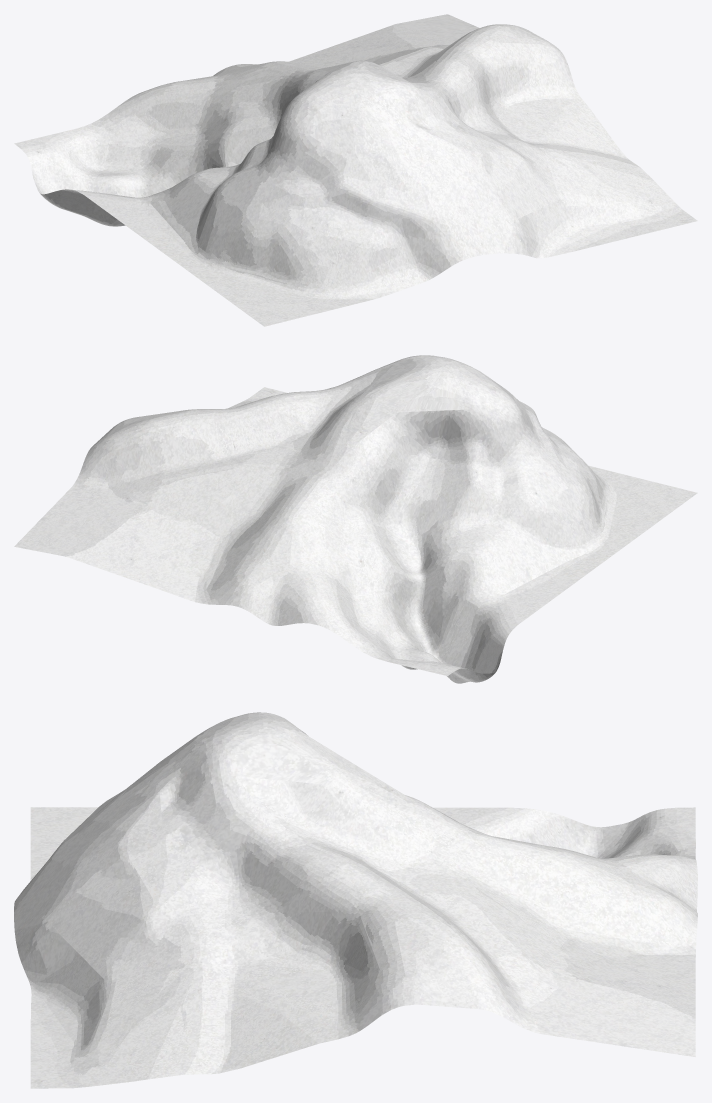
Rendered from test-mountain.fbx.
3 views of the same model, one above another, from view 1: azimuth 30°, elevation 25°; view 2: azimuth 150°, elevation 25°; view 3: azimuth 270°, elevation 25° (orthographic). The views are drawn at different scales.
Visible parts, largest first — view 1: Plane; view 2: Plane; view 3: Plane.
Part boxes in pixels (box(x1,y1,x2,y2)): Plane: box(14, 14, 697, 326); Plane: box(14, 355, 697, 683); Plane: box(14, 712, 697, 1088).
Bounding box in the file's own units: 10364 × 4431 × 10283.
1 material, 1 textured.
